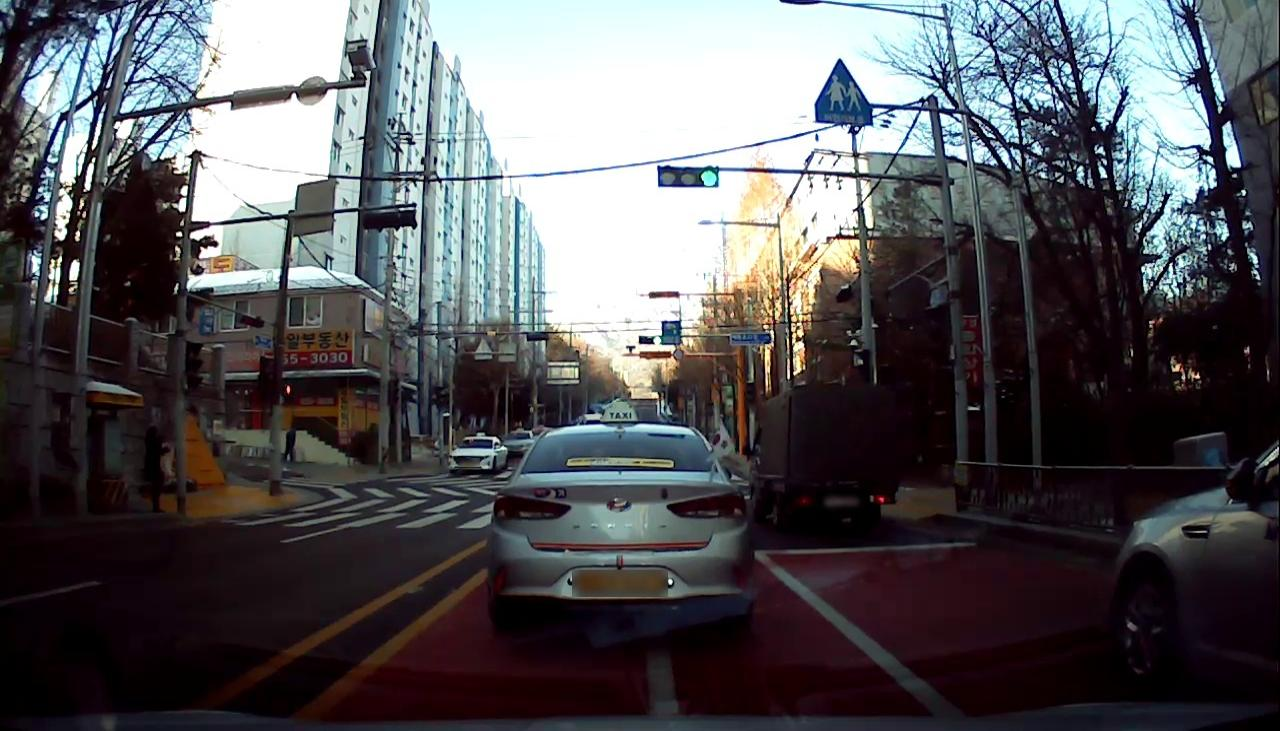Green Light: (700, 166, 718, 188)
